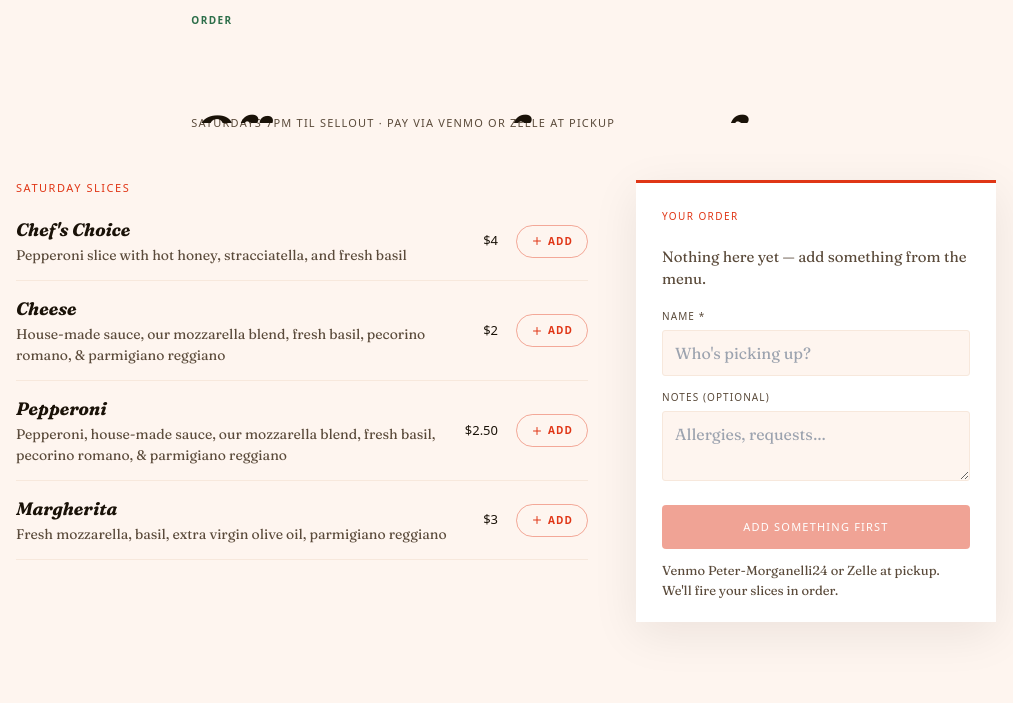
Test: OrderPage › add-on chips › names the slice, the price and the sold-out state in the aria-label
expect the text "Chef's Choice" is shown: met, box [16,218,130,241]
Click the button "Add" next to "$4": (552, 241) [516,224,588,258]
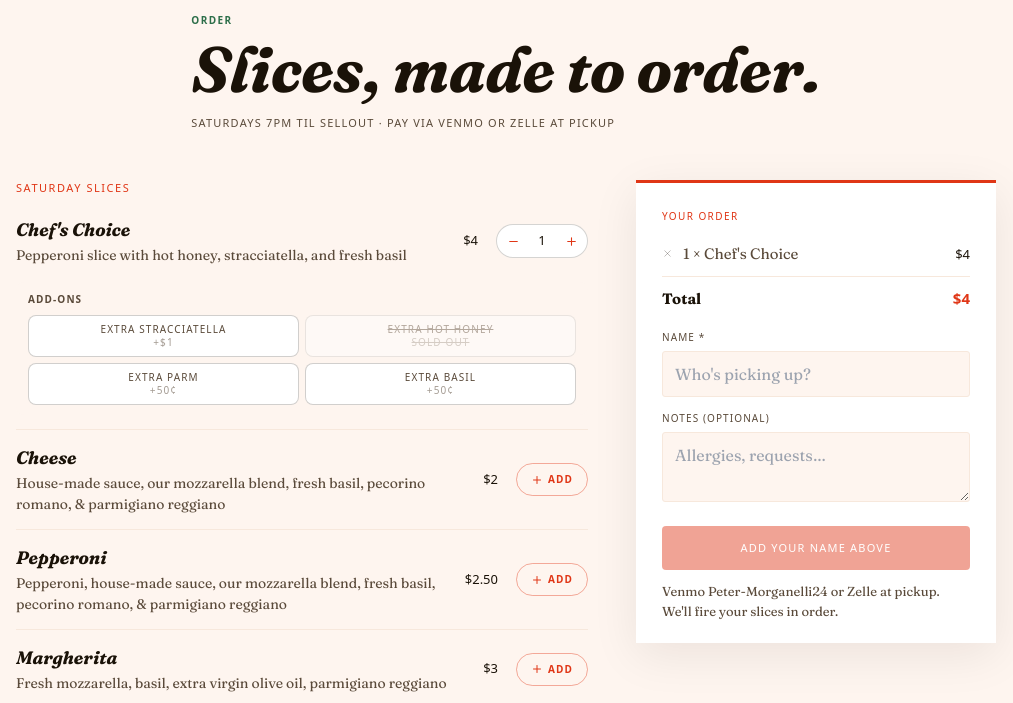
expect the button with class "addon-chip" showing "Extra Hot Honey Sold out" is disabled: met, box [305,315,576,357]
